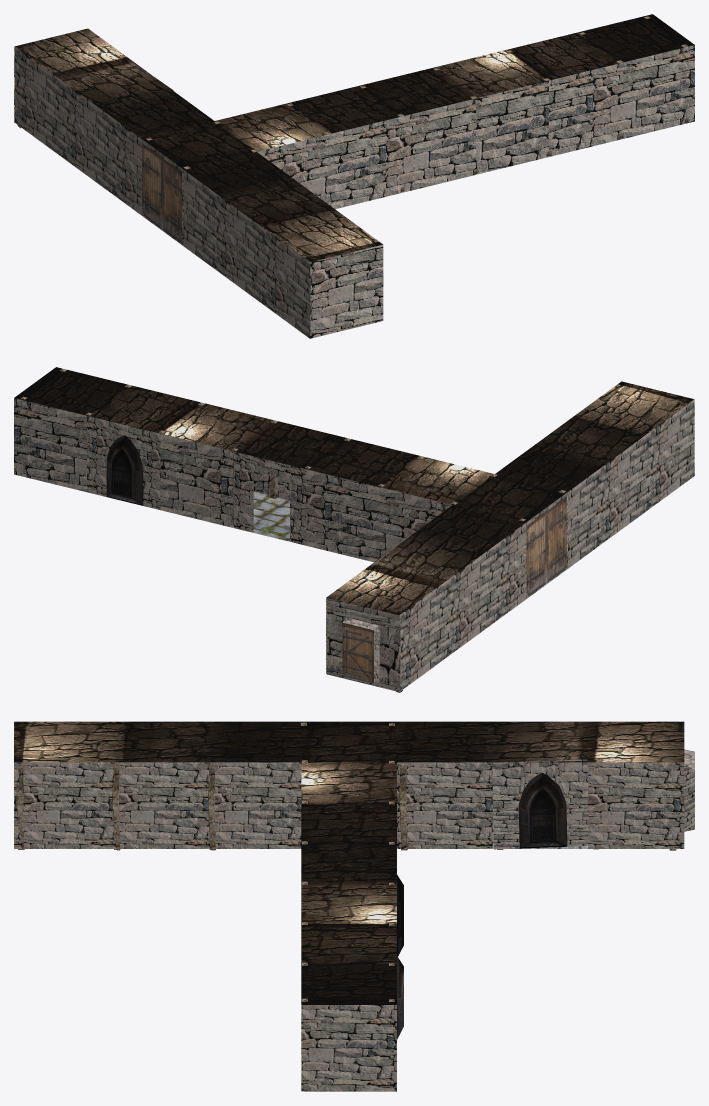
Rendered from bake-corridorofc.fbx.
3 views of the same model, one above another, from view 1: azimuth 30°, elevation 25°; view 2: azimuth 150°, elevation 25°; view 3: azimuth 270°, elevation 25° (orthographic). The views are drawn at different scales.
Visible parts, largest first — view 1: corridor, coling; view 2: corridor, coling, floor, beans; view 3: corridor, coling, beans.
Part boxes in pixels (x1,y1,x2,y2): corridor: (14,45,694,338); coling: (15,14,694,262); corridor: (14,398,694,691); coling: (14,367,694,615); floor: (96,476,694,691); beans: (21,368,565,692); corridor: (14,749,694,1091); coling: (14,721,684,1004); beans: (16,722,676,1001).
Bounding box in the file's own units: 1403 × 211 × 1423.
